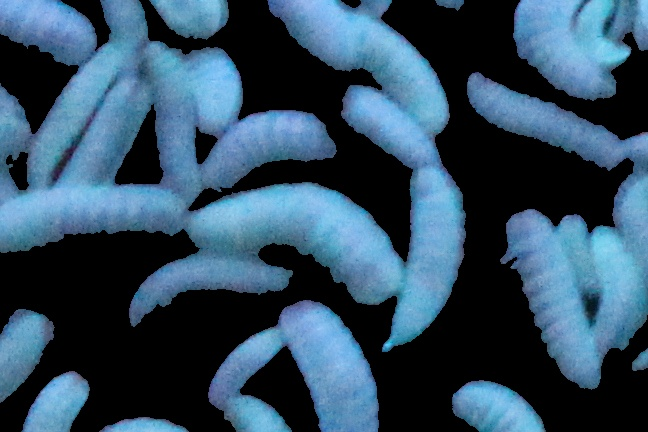larvae: (187, 185, 397, 300), (504, 208, 601, 392), (390, 165, 472, 342), (467, 74, 617, 170), (279, 298, 379, 432), (29, 48, 120, 185), (1, 185, 185, 251), (128, 257, 293, 325), (60, 74, 148, 186), (358, 19, 445, 132), (209, 110, 333, 187), (517, 1, 610, 101), (144, 41, 195, 199), (341, 84, 442, 163), (263, 1, 360, 80), (591, 227, 648, 352), (1, 1, 95, 70), (452, 379, 548, 432), (207, 326, 282, 393), (1, 306, 51, 405), (188, 48, 244, 130), (577, 1, 634, 72), (556, 213, 603, 292), (29, 371, 88, 432), (97, 1, 159, 53), (225, 395, 290, 432)
